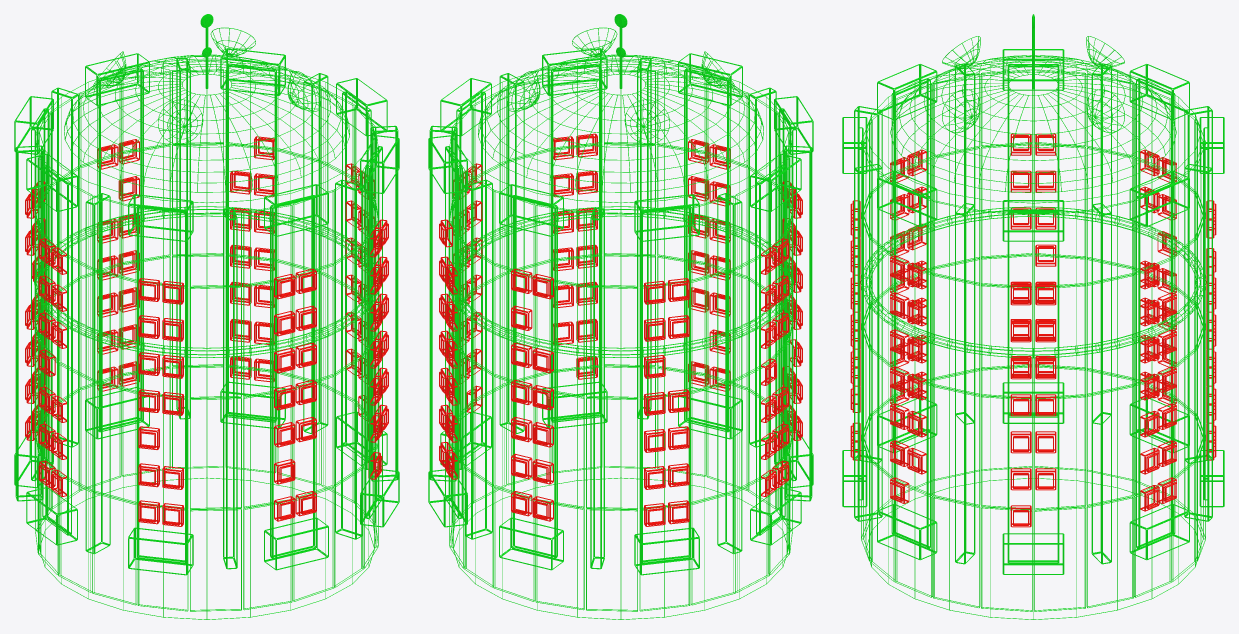
The model's file is repair-facility-highlight-droid-ports.glb.
The picture shows the model from 3 angles, left to right: view 1: azimuth 30°, elevation 25°; view 2: azimuth 150°, elevation 25°; view 3: azimuth 270°, elevation 25°; orthographic projection.
Parts seen in each view (by area): view 1: chassis technical wire, droid-ports technical wire, four-data-dishes technical wire; view 2: chassis technical wire, droid-ports technical wire, four-data-dishes technical wire; view 3: chassis technical wire, droid-ports technical wire, four-data-dishes technical wire.
Boxes of the visible parts, x1,y1,x2,y2 form: chassis technical wire: [14, 48, 399, 619]; droid-ports technical wire: [25, 136, 388, 526]; four-data-dishes technical wire: [93, 27, 320, 144]; chassis technical wire: [428, 48, 813, 619]; droid-ports technical wire: [439, 133, 802, 526]; four-data-dishes technical wire: [507, 27, 734, 144]; chassis technical wire: [842, 49, 1224, 619]; droid-ports technical wire: [850, 133, 1216, 527]; four-data-dishes technical wire: [942, 36, 1124, 132].
Size of the model in its own units: 1.87 by 2.89 by 1.87.
